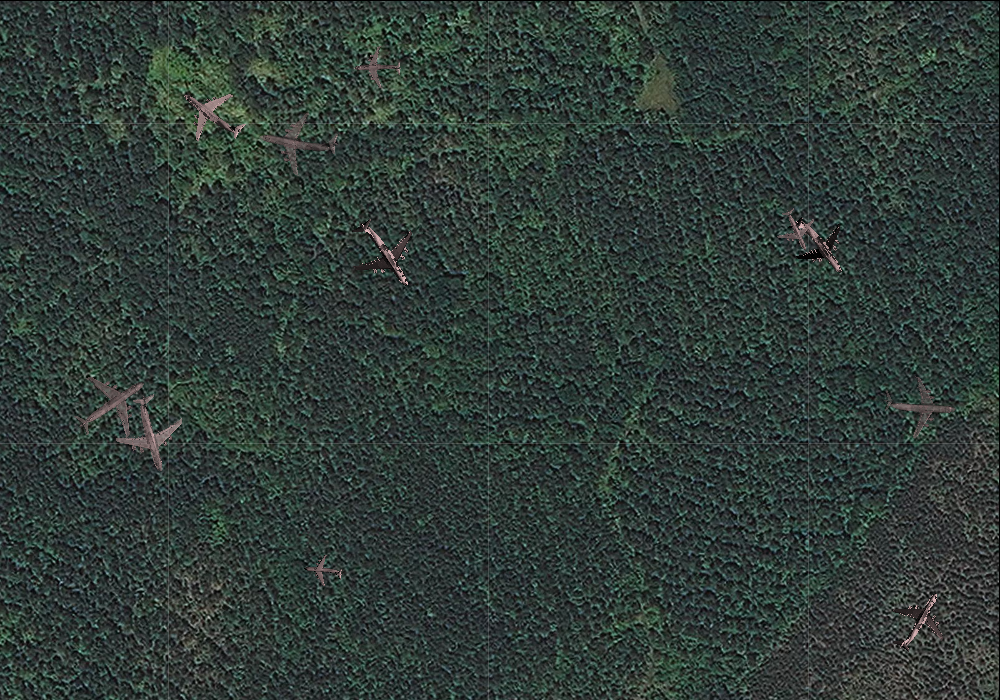plane: (331, 200, 436, 307), (58, 353, 163, 456), (104, 385, 197, 481), (165, 66, 259, 160), (772, 199, 864, 293), (253, 97, 344, 184), (875, 577, 962, 665), (881, 369, 957, 442), (768, 201, 824, 258), (353, 44, 401, 91), (302, 552, 343, 591)
